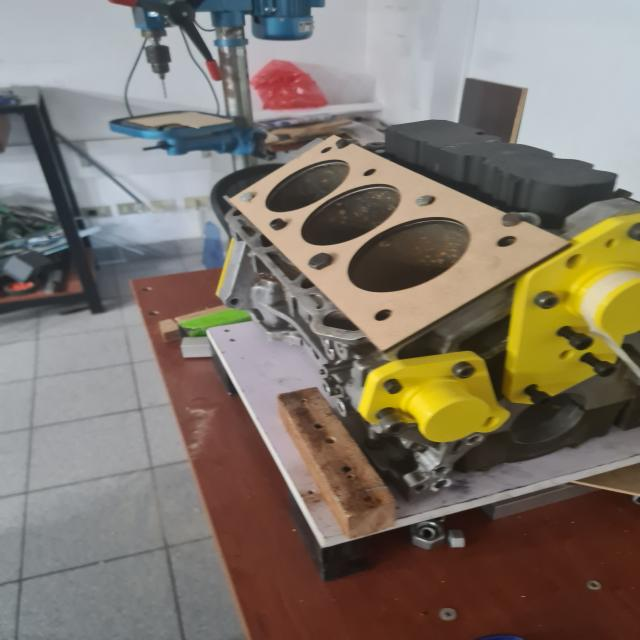vista1: (230, 134, 569, 352)
